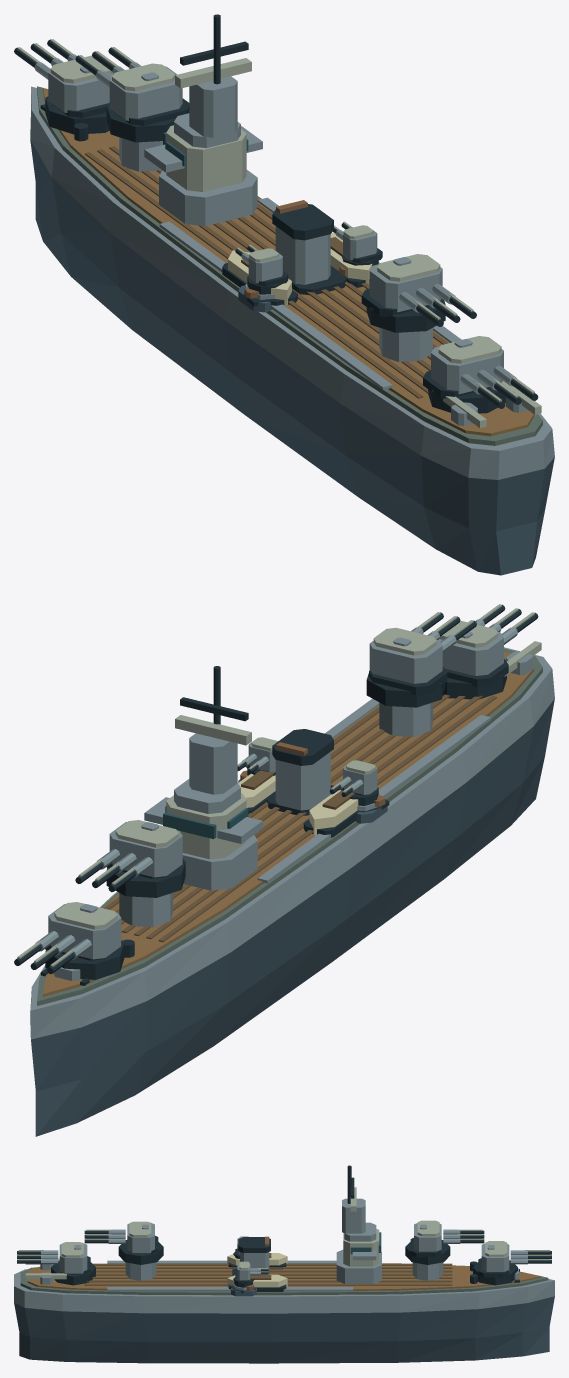
Rendered from historic-fargo.glb.
The picture shows the model from 3 angles, top to bottom: view 1: azimuth 30°, elevation 25°; view 2: azimuth 150°, elevation 25°; view 3: azimuth 270°, elevation 25°; orthographic projection. The views are drawn at different scales.
Parts seen in each view (by area): view 1: historic-fargo-historic-fargo-geometry, historic-fargo-part_bridge.099-geometry, historic-fargo-turret_main_1.066-geometry, historic-fargo-turret_main_2.059-geometry, historic-fargo-turret_main_3.037-geometry, historic-fargo-turret_main_0.070-geometry, historic-fargo-historic_funnel_0.097-geometry, historic-fargo-turret_aa_aa-port.101-geometry, historic-fargo-turret_aa_aa-starboard.097-geometry; view 2: historic-fargo-historic-fargo-geometry, historic-fargo-part_bridge.099-geometry, historic-fargo-turret_main_2.059-geometry, historic-fargo-turret_main_1.066-geometry, historic-fargo-turret_main_0.070-geometry, historic-fargo-turret_main_3.037-geometry, historic-fargo-historic_funnel_0.097-geometry, historic-fargo-turret_aa_aa-port.101-geometry, historic-fargo-turret_aa_aa-starboard.097-geometry; view 3: historic-fargo-historic-fargo-geometry, historic-fargo-part_bridge.099-geometry, historic-fargo-turret_main_1.066-geometry, historic-fargo-turret_main_2.059-geometry, historic-fargo-turret_main_0.070-geometry, historic-fargo-turret_main_3.037-geometry, historic-fargo-historic_funnel_0.097-geometry, historic-fargo-turret_aa_aa-starboard.097-geometry.
Boxes of the visible parts, x1,y1,x2,y2 form: historic-fargo-historic-fargo-geometry: (30,86,554,575); historic-fargo-part_bridge.099-geometry: (144,14,262,225); historic-fargo-turret_main_1.066-geometry: (75,47,189,142); historic-fargo-turret_main_2.059-geometry: (361,254,476,332); historic-fargo-turret_main_3.037-geometry: (423,336,538,413); historic-fargo-turret_main_0.070-geometry: (14,39,113,134); historic-fargo-historic_funnel_0.097-geometry: (272,200,346,295); historic-fargo-turret_aa_aa-port.101-geometry: (235,244,288,294); historic-fargo-turret_aa_aa-starboard.097-geometry: (332,221,382,265); historic-fargo-historic-fargo-geometry: (30,641,554,1136); historic-fargo-part_bridge.099-geometry: (144,666,262,890); historic-fargo-turret_main_2.059-geometry: (366,612,476,707); historic-fargo-turret_main_1.066-geometry: (75,820,185,897); historic-fargo-turret_main_0.070-geometry: (14,902,124,979); historic-fargo-turret_main_3.037-geometry: (438,604,538,699); historic-fargo-historic_funnel_0.097-geometry: (267,729,333,815); historic-fargo-turret_aa_aa-port.101-geometry: (329,760,378,805); historic-fargo-turret_aa_aa-starboard.097-geometry: (237,737,278,775); historic-fargo-historic-fargo-geometry: (14,1253,554,1363); historic-fargo-part_bridge.099-geometry: (336,1165,381,1283); historic-fargo-turret_main_1.066-geometry: (405,1220,484,1264); historic-fargo-turret_main_2.059-geometry: (84,1221,163,1264); historic-fargo-turret_main_0.070-geometry: (473,1241,551,1285); historic-fargo-turret_main_3.037-geometry: (17,1242,95,1285); historic-fargo-historic_funnel_0.097-geometry: (232,1236,270,1275); historic-fargo-turret_aa_aa-starboard.097-geometry: (233,1261,268,1287).
Bounding box in the file's own units: 0.6937 × 1.63 × 4.32.
